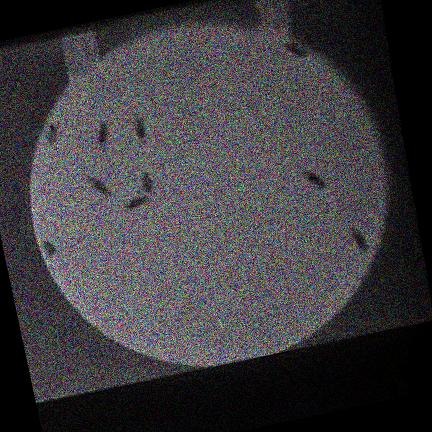fly: (88, 176, 112, 197), (351, 227, 368, 253), (284, 39, 307, 58), (304, 171, 326, 189), (124, 196, 150, 210), (134, 118, 146, 143), (141, 172, 154, 193), (46, 124, 59, 145), (98, 122, 109, 146), (43, 241, 57, 256)
